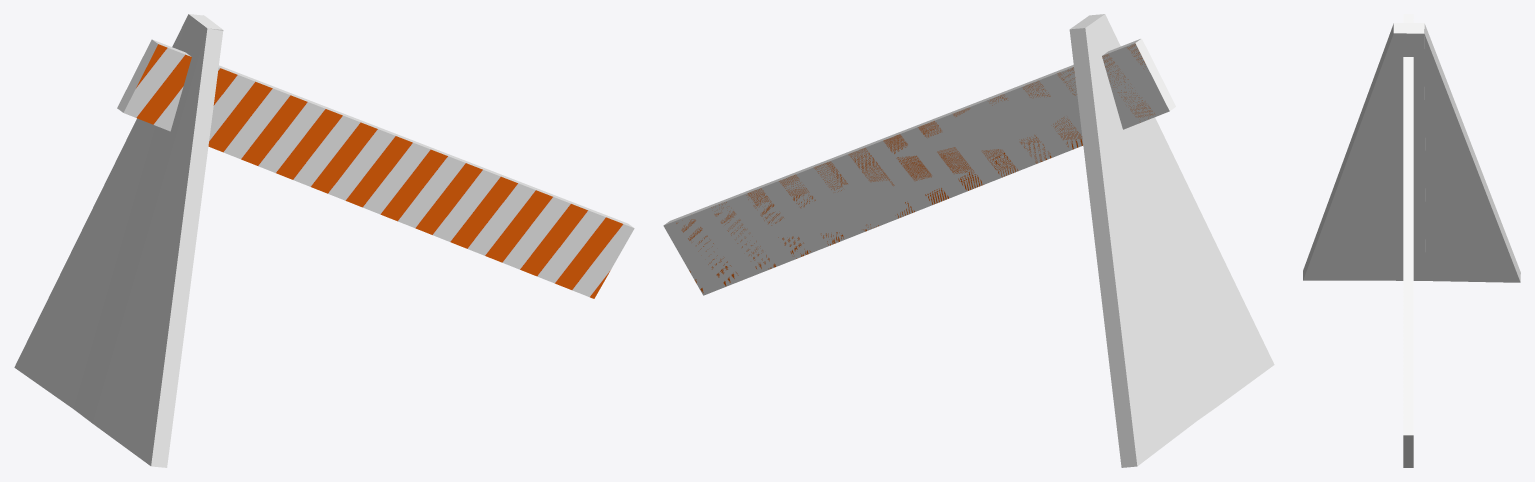
Rendered from construction_tilted_fence.dae.
3 renders of one model, left to right at view 1: azimuth 30°, elevation 25°; view 2: azimuth 150°, elevation 25°; view 3: azimuth 270°, elevation 25°, orthographic. The views are drawn at different scales.
Visible parts, largest first — view 1: SketchUp (×3); view 2: SketchUp (×3); view 3: SketchUp (×2).
Boxes of the visible parts, <box> form: SketchUp (×3): <box>14,14,634,467</box>; SketchUp (×3): <box>663,14,1274,467</box>; SketchUp (×2): <box>1303,14,1520,467</box>.
Bounding box in the file's own units: 38.33 × 16.71 × 25.17.
2 materials, 1 textured.
